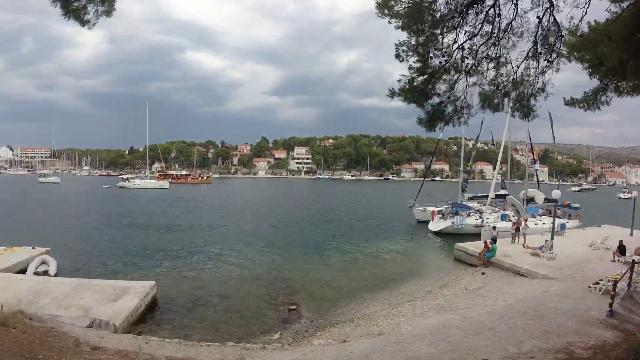Freighter: (152, 162, 218, 185)
Sailboat: (114, 172, 174, 192), (36, 168, 66, 186)
